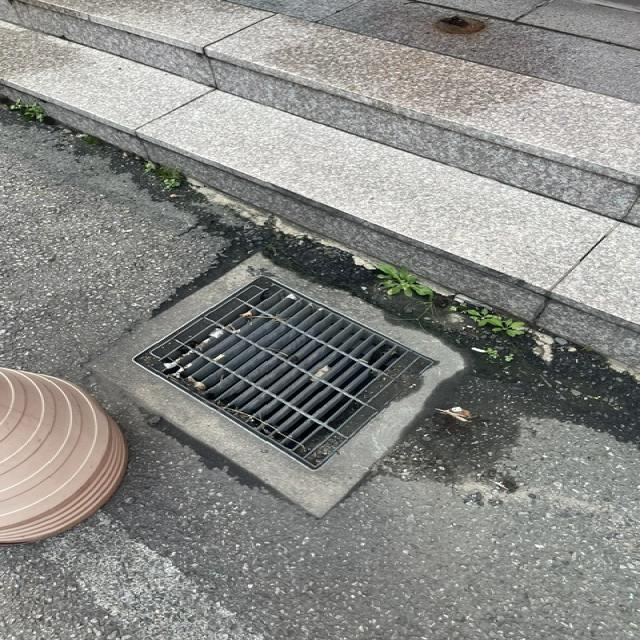drain_area: (177, 291, 407, 444)
drain_full: (134, 279, 434, 468)
